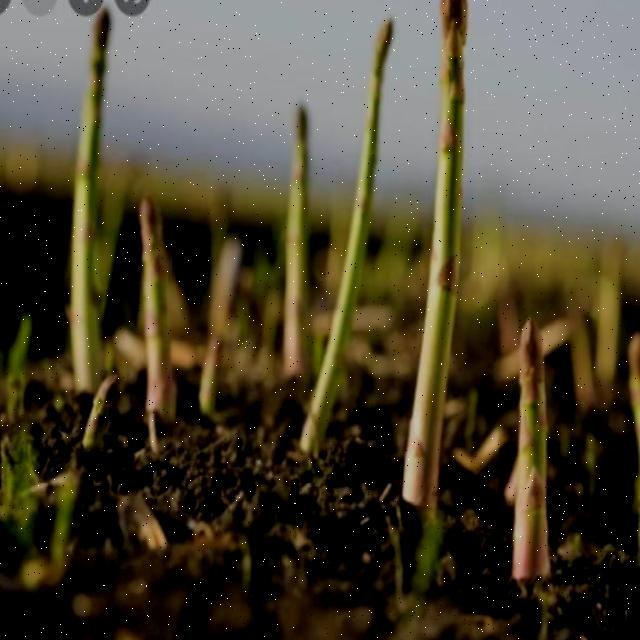aspargus: (304, 19, 395, 454), (403, 0, 470, 511), (71, 0, 133, 394), (510, 323, 549, 585), (135, 198, 175, 422), (284, 104, 312, 376)
